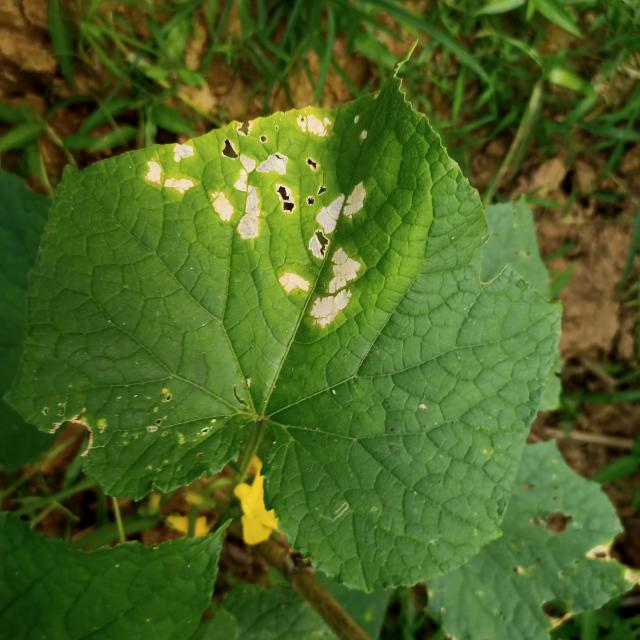disease_cucumber: (138, 102, 380, 341)
